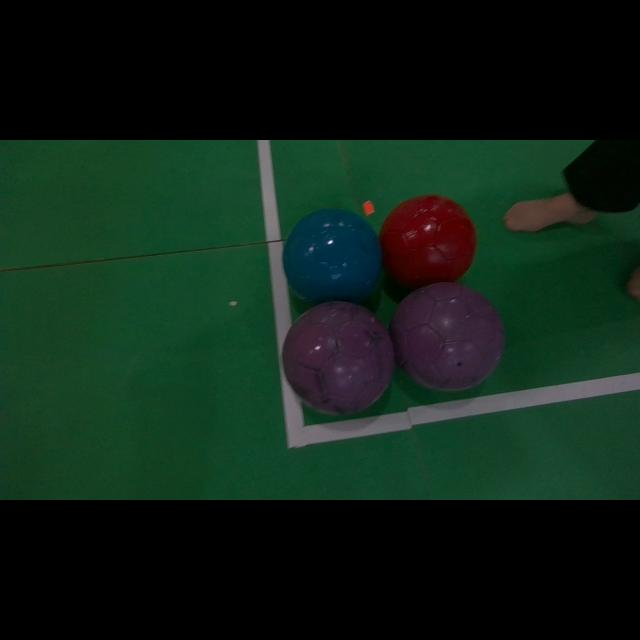B: (284, 209, 381, 302)
P: (282, 301, 395, 414), (390, 282, 505, 390)
R: (379, 195, 476, 288)
